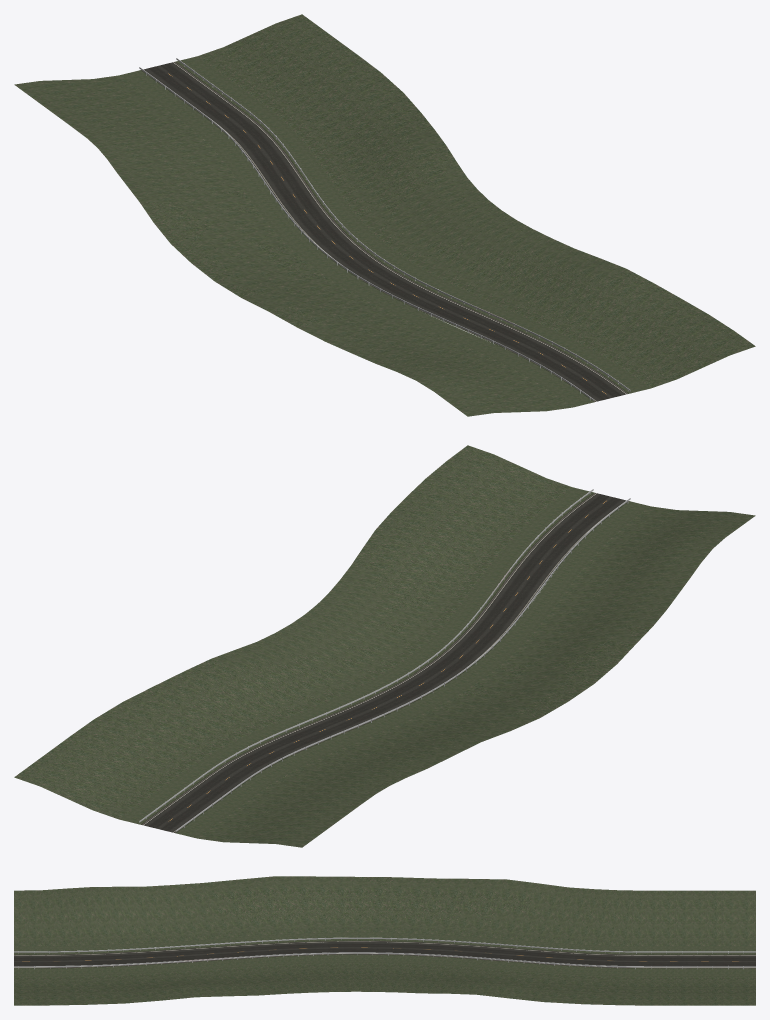
The picture shows the model from 3 angles, top to bottom: view 1: azimuth 30°, elevation 25°; view 2: azimuth 150°, elevation 25°; view 3: azimuth 270°, elevation 25°; orthographic projection. The views are drawn at different scales.
Visible parts, largest first — view 1: Grass, HighWay, GuardRail; view 2: Grass, HighWay, GuardRail; view 3: Grass, HighWay, GuardRail.
Part boxes in pixels (x1,y1,x2,y2): Grass: [14, 14, 755, 416]; HighWay: [140, 61, 628, 402]; GuardRail: [139, 58, 630, 400]; Grass: [14, 445, 755, 847]; HighWay: [141, 492, 629, 833]; GuardRail: [139, 489, 630, 831]; Grass: [14, 876, 755, 1005]; HighWay: [14, 940, 755, 968]; GuardRail: [14, 937, 755, 969].
Size of what is drawn, in the model's own units: 127 by 8.87 by 300.
